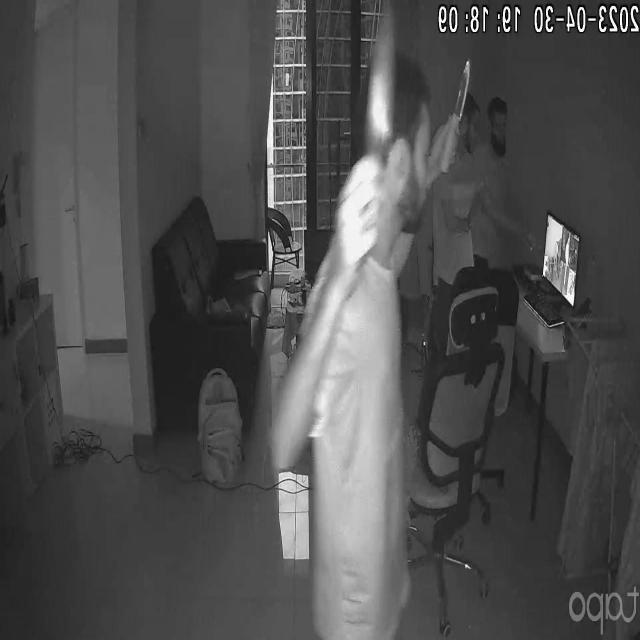Knife: (352, 5, 409, 143), (442, 51, 478, 131)
